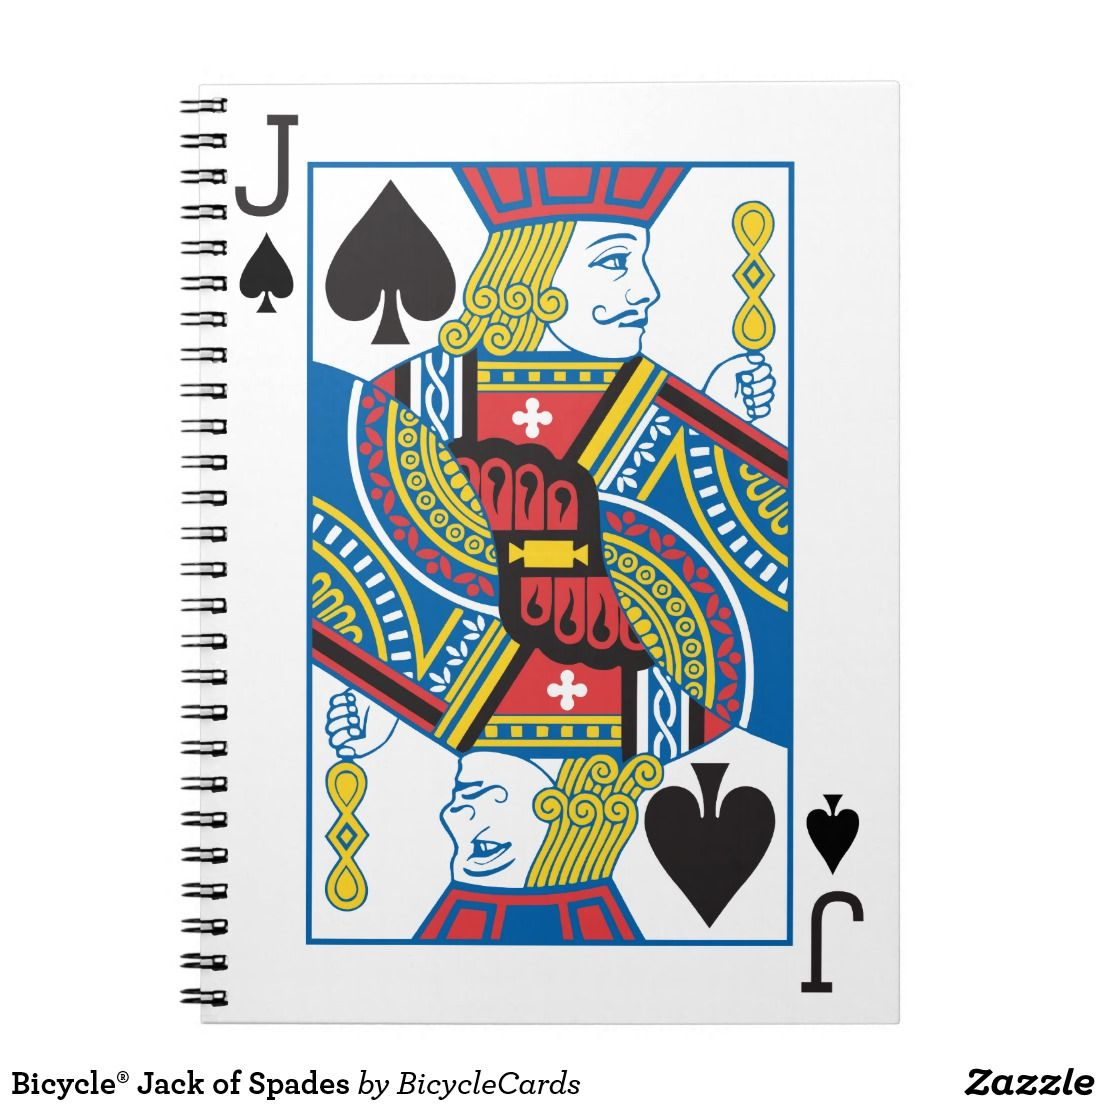jack of spades: (233, 100, 895, 1007)
